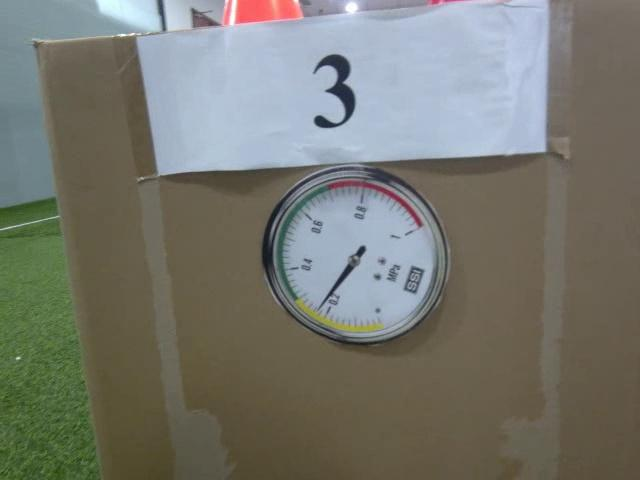3: (306, 49, 362, 138)
Dashboard: (264, 167, 450, 348)
orange_barrel: (218, 0, 306, 28)
ssi: (403, 261, 425, 299)
